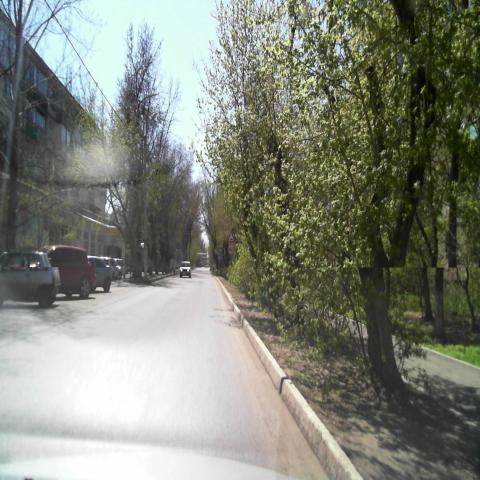1_17: (228, 229, 235, 242)
3_24: (228, 244, 234, 255)
